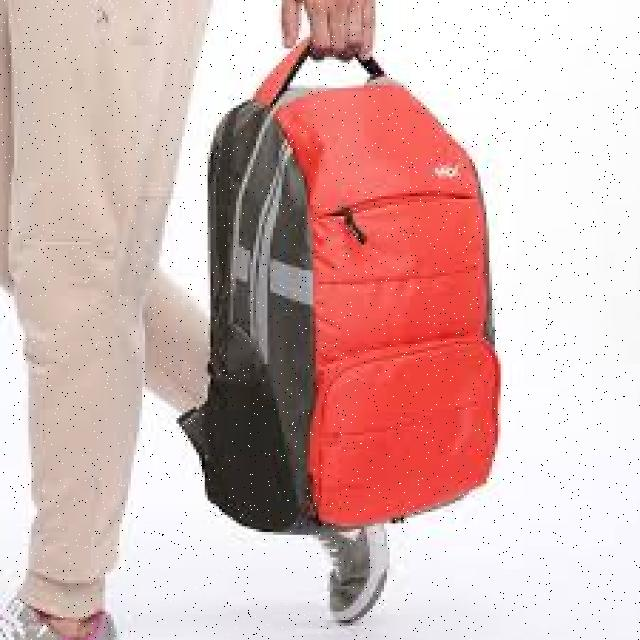backpack: (176, 34, 501, 535)
